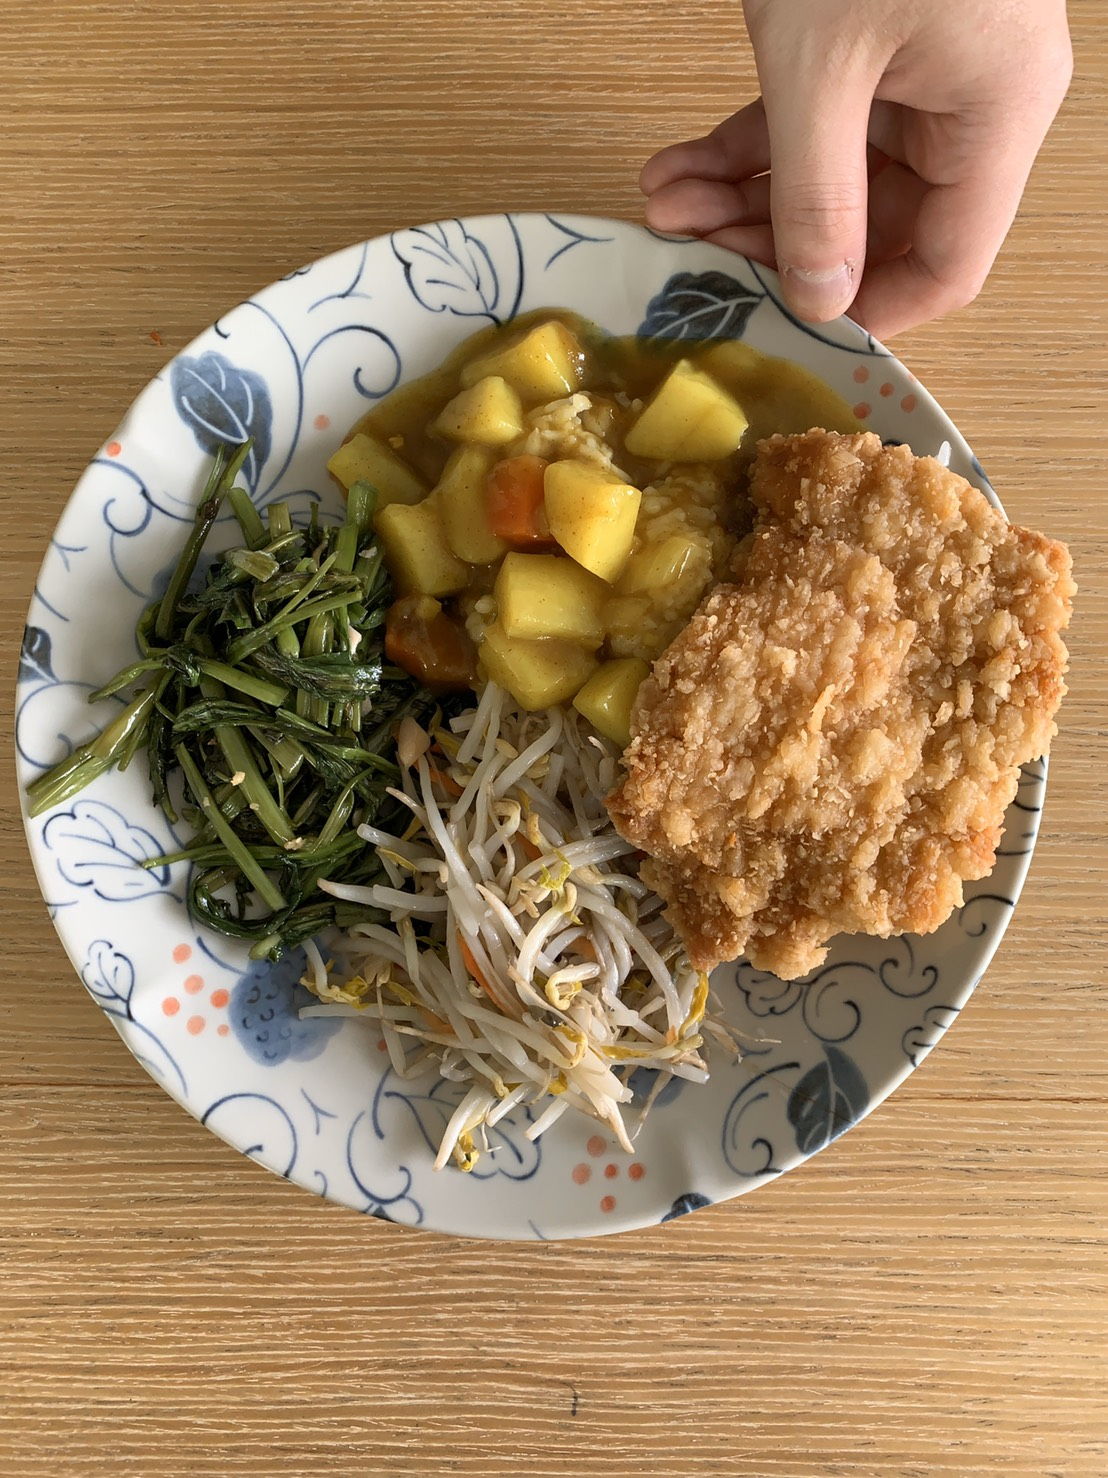curry: (379, 357, 709, 659)
fried_chicken: (684, 518, 1042, 921)
mung_bean_sprouts: (403, 708, 656, 1101)
water_spinach: (136, 546, 388, 871)
